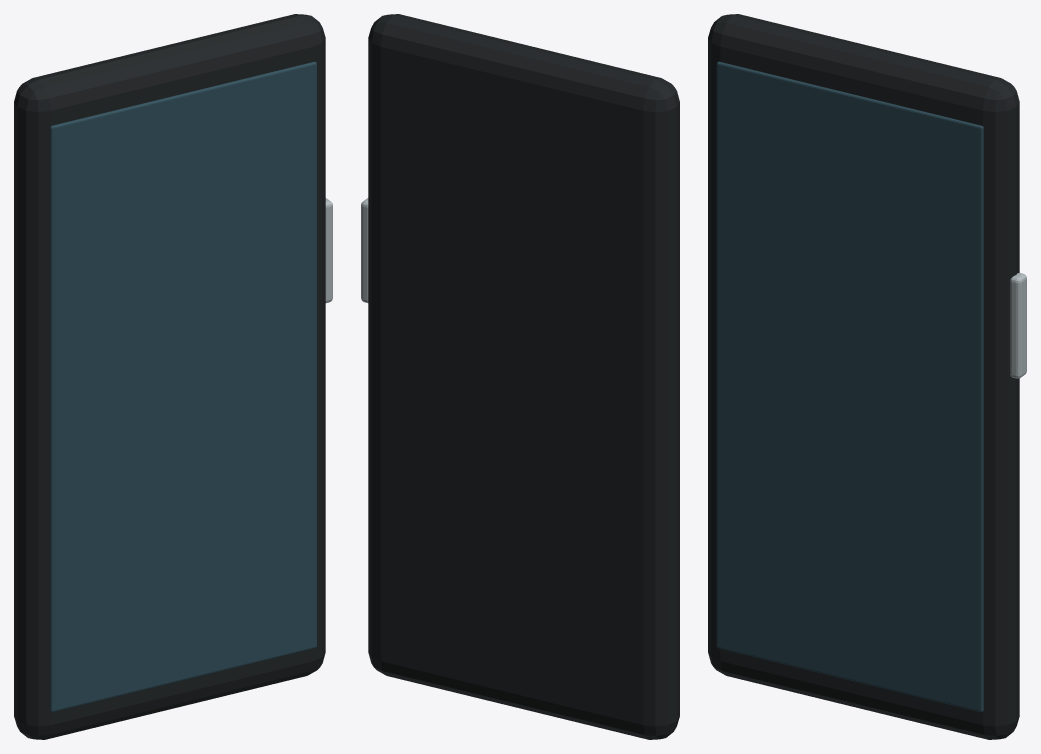
File: phone_candidate.glb
3 views of the same model, side by side, from view 1: azimuth 30°, elevation 25°; view 2: azimuth 150°, elevation 25°; view 3: azimuth 330°, elevation 25° (orthographic).
Parts seen in each view (by area): view 1: phone_screen, phone_frame, phone_button; view 2: phone_frame, phone_button; view 3: phone_screen, phone_frame, phone_button.
Boxes of the visible parts, box(x1,y1,x2,y2) form: phone_screen: box(50, 61, 316, 712); phone_frame: box(14, 14, 325, 739); phone_button: box(325, 198, 332, 302); phone_frame: box(368, 14, 679, 739); phone_button: box(361, 198, 368, 302); phone_screen: box(716, 61, 983, 712); phone_frame: box(708, 14, 1019, 739); phone_button: box(1010, 273, 1026, 378).
Bounding box in the file's own units: 0.081 × 0.163 × 0.0121.
